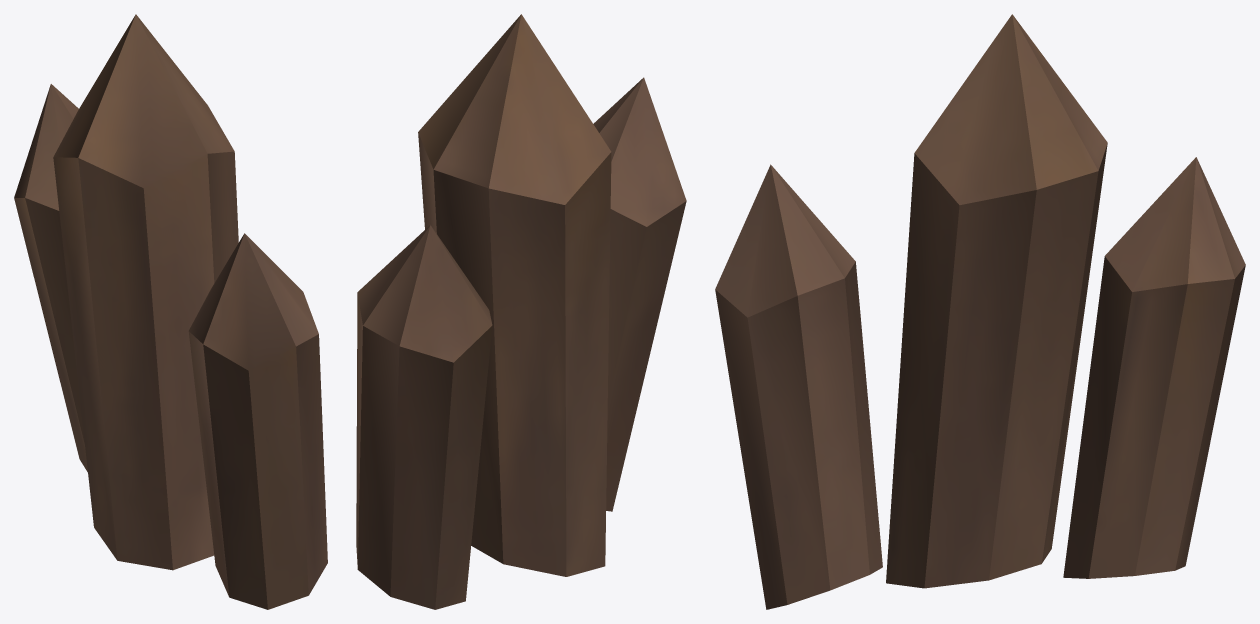
File: pincho.fbx
3 views of the same model, side by side, from view 1: azimuth 30°, elevation 25°; view 2: azimuth 150°, elevation 25°; view 3: azimuth 270°, elevation 25° (orthographic). The views are drawn at different scales.
Parts seen in each view (by area): view 1: sm_pincho; view 2: sm_pincho; view 3: sm_pincho.
Boxes of the visible parts, bbox=[...] form: sm_pincho: bbox=[14, 14, 327, 609]; sm_pincho: bbox=[356, 14, 686, 609]; sm_pincho: bbox=[715, 14, 1245, 609].
Bounding box in the file's own units: 29.08 × 88.3 × 73.9.
